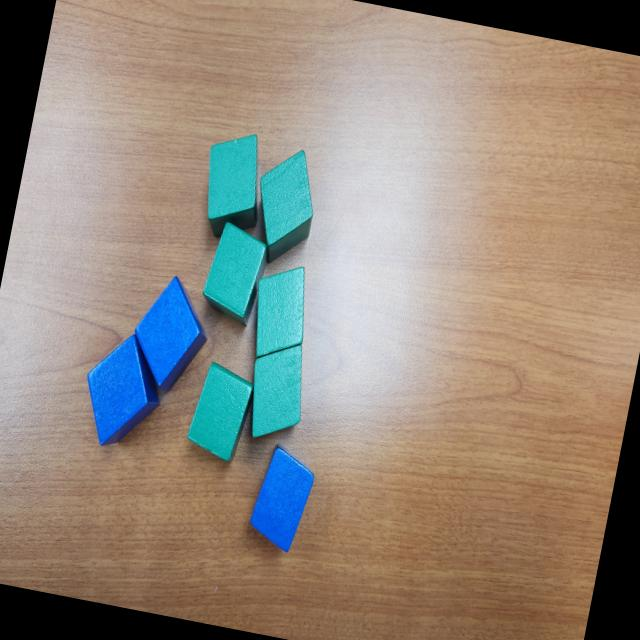blue: (74, 327, 173, 456), (124, 269, 218, 400), (245, 444, 319, 554)
green: (244, 143, 326, 270), (193, 126, 274, 246), (198, 216, 274, 328), (243, 258, 317, 368), (240, 338, 314, 447), (184, 360, 256, 465)
